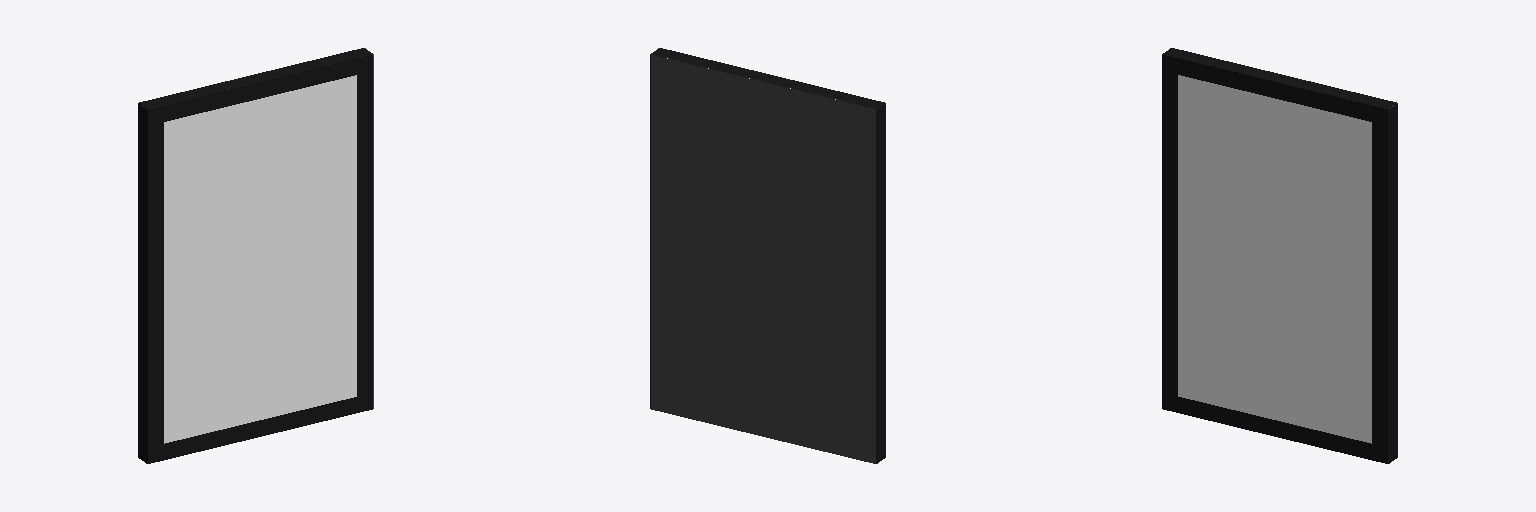
3 renders of one model, left to right at view 1: azimuth 30°, elevation 25°; view 2: azimuth 150°, elevation 25°; view 3: azimuth 330°, elevation 25°, orthographic.
Visible parts, largest first — view 1: Cube_Cube.001; view 2: Cube_Cube.001; view 3: Cube_Cube.001.
Boxes of the visible parts, x1,y1,x2,y2 form: Cube_Cube.001: [138, 48, 373, 463]; Cube_Cube.001: [650, 48, 885, 463]; Cube_Cube.001: [1162, 48, 1397, 463].
Bounding box in the file's own units: 0.4 × 0.6 × 0.0283.
1 materials, 1 textured.